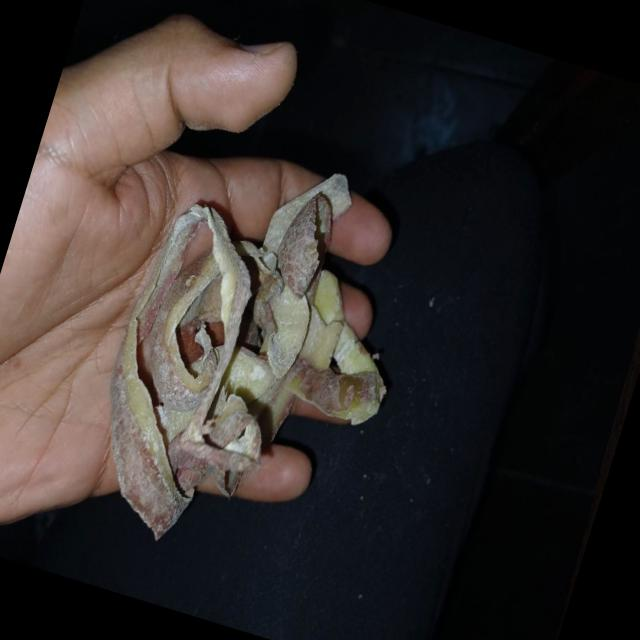organic: (70, 127, 440, 587)
